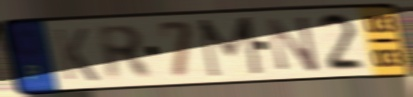2: (317, 11, 369, 74)
7: (155, 19, 201, 82)
K: (51, 26, 102, 83)
M: (195, 14, 268, 81)
N: (264, 13, 323, 74)
R: (93, 22, 157, 84)
